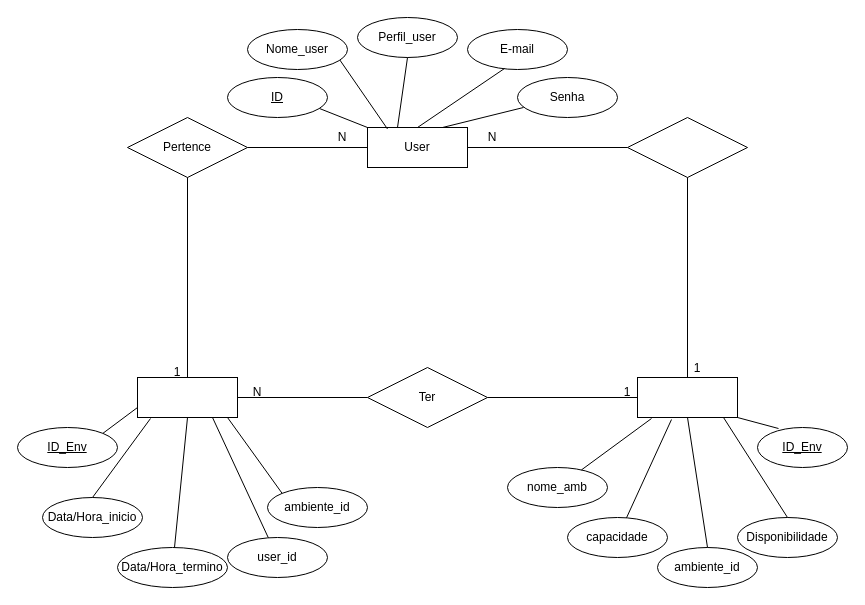
The diagram is 865 pixels wide and 605 high, and some of its shapes have lost their labels. Each missing label, with the centre of its shape:
BD_Ambiente: pixel 687 397
Reserva: pixel 187 397
Visualizar: pixel 687 147
